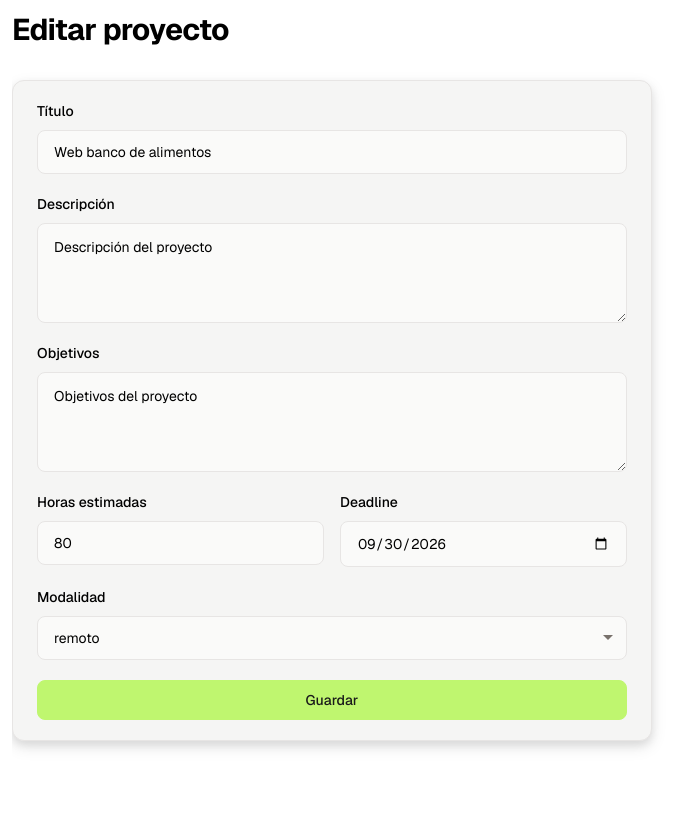
Test: NgoProjectFormPage — editar › AC7: muestra error 403 si intenta editar un proyecto ajeno
Check: the field showing "Web banco de alimentos" is shown, box [37, 130, 627, 174]
What coordinates should you click on to do the following:
click the button "Guardar"
I would click on:
 (332, 700)
Its box is [37, 680, 627, 720].
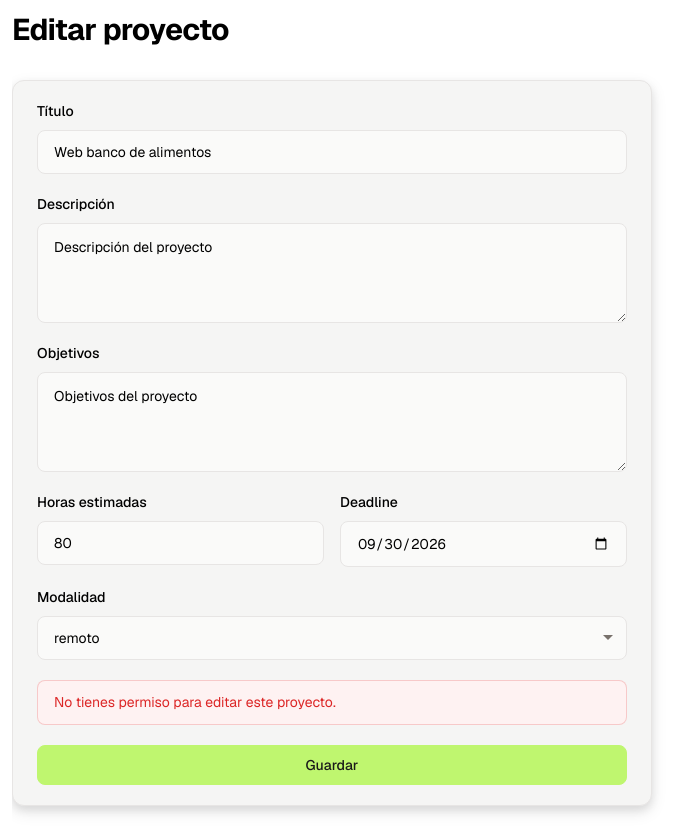
Check: the message "No tienes permiso para editar este proyecto." is shown, box [37, 680, 627, 725]
Check: the message shows "No tienes permiso", box [54, 693, 336, 711]
